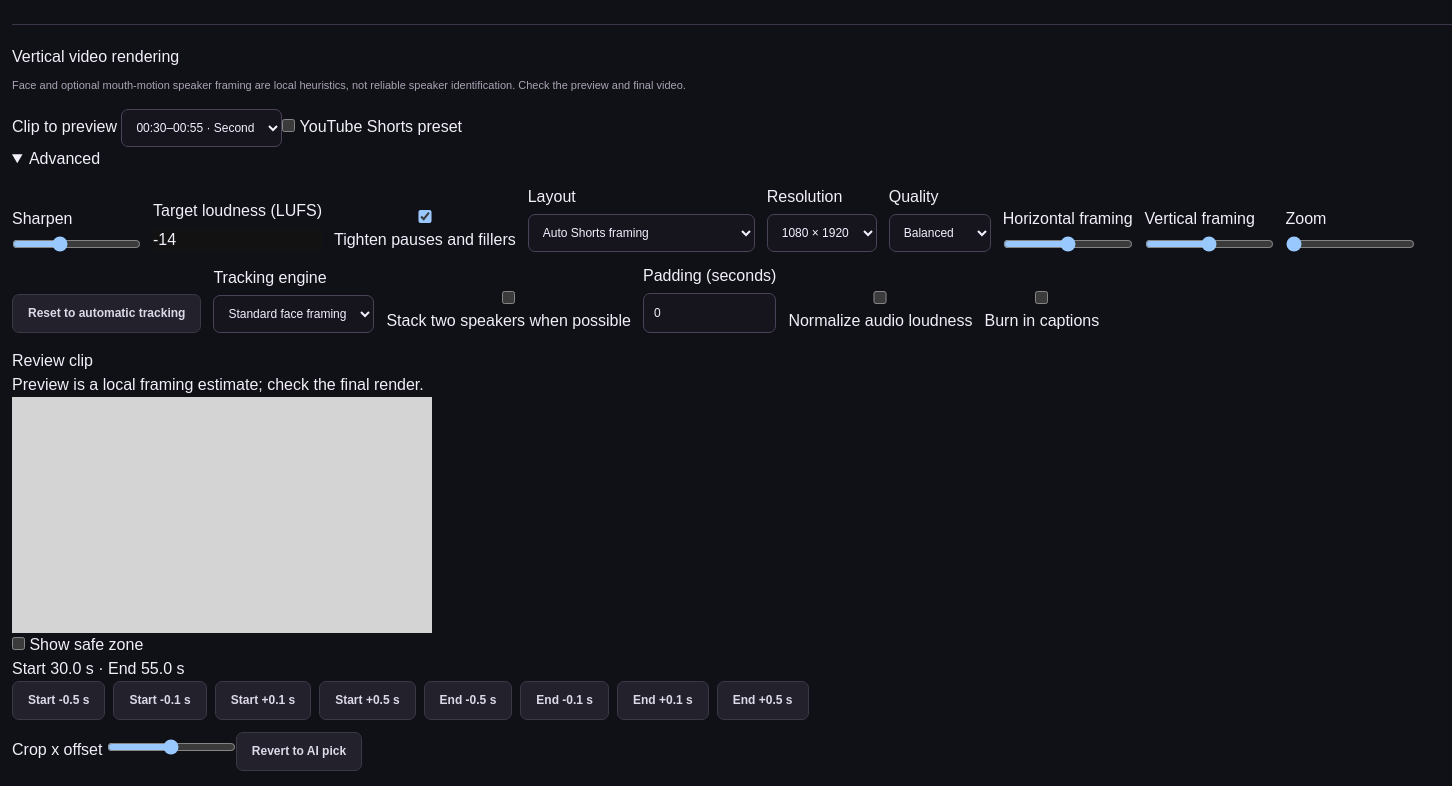
it: subject framing and captions › submits subject, speaker and caption options and shows failure and SRT download
Later steps or results of the test are not shown.
Select "Subject tracking" in the dropdown labelled "Tracking engine" at (294, 314), box [213, 295, 374, 333]
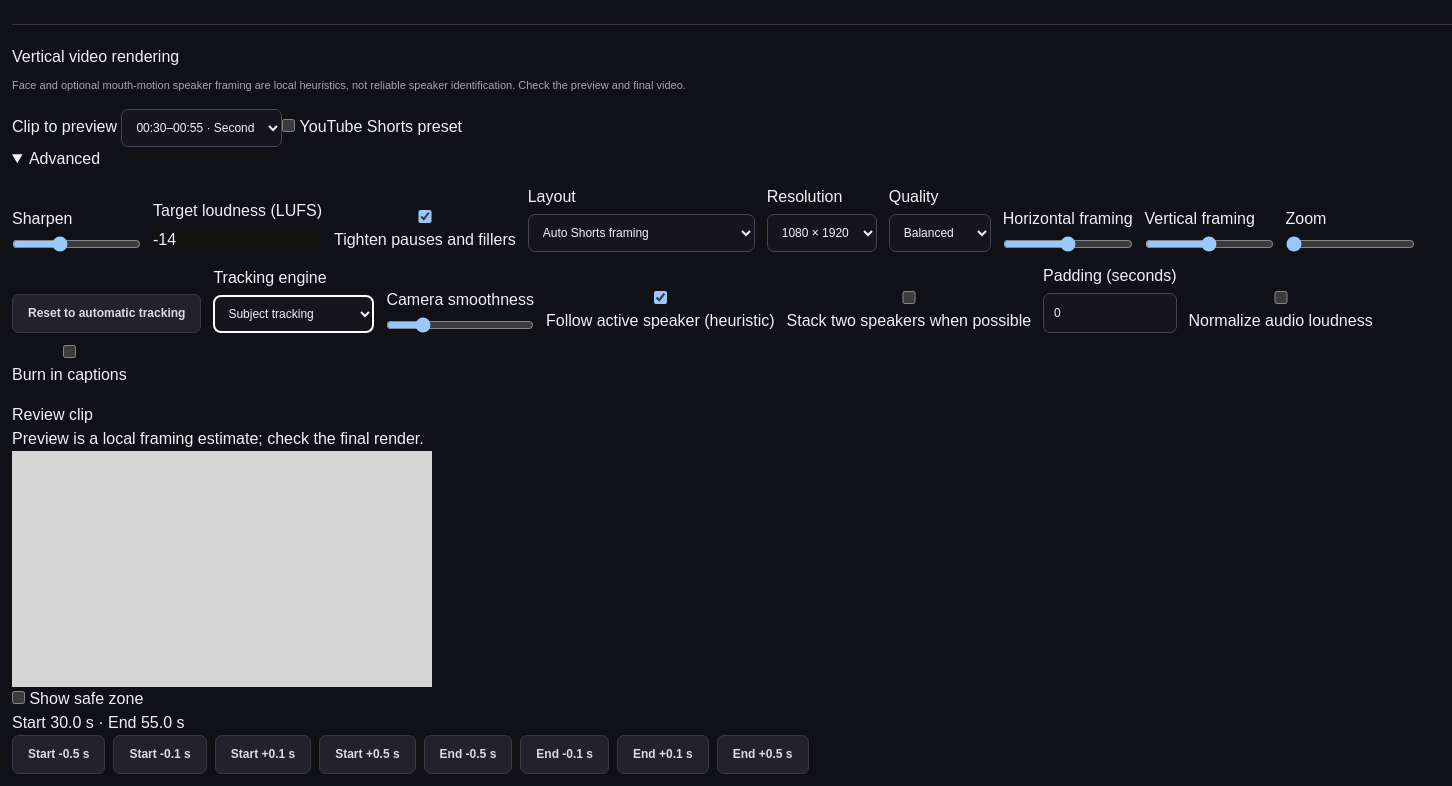
Result: the checkbox labelled "Follow active speaker (heuristic)" is checked at [546, 291, 774, 304]
